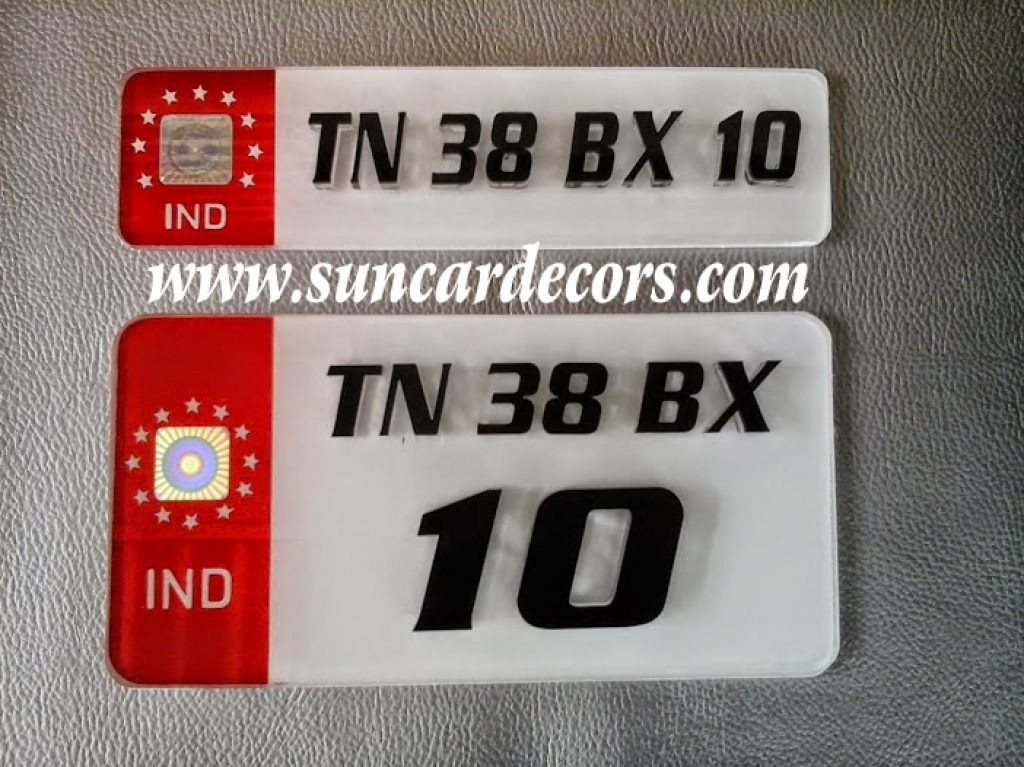number_plate: (112, 312, 833, 680), (118, 60, 833, 249)
